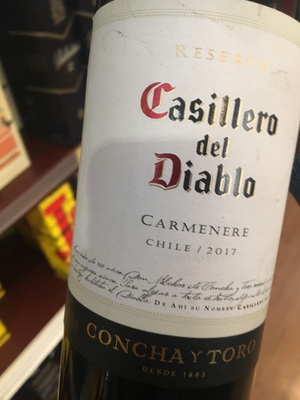casillero del diablo carmenere: (67, 7, 300, 377)
